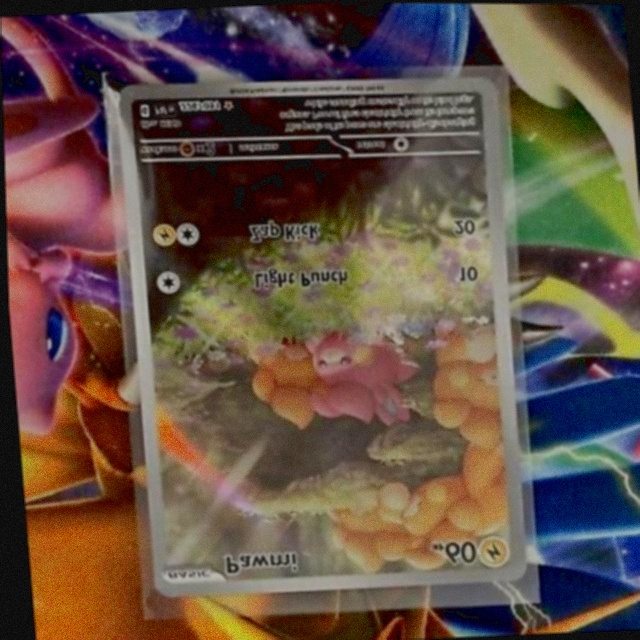card: (115, 75, 524, 597)
